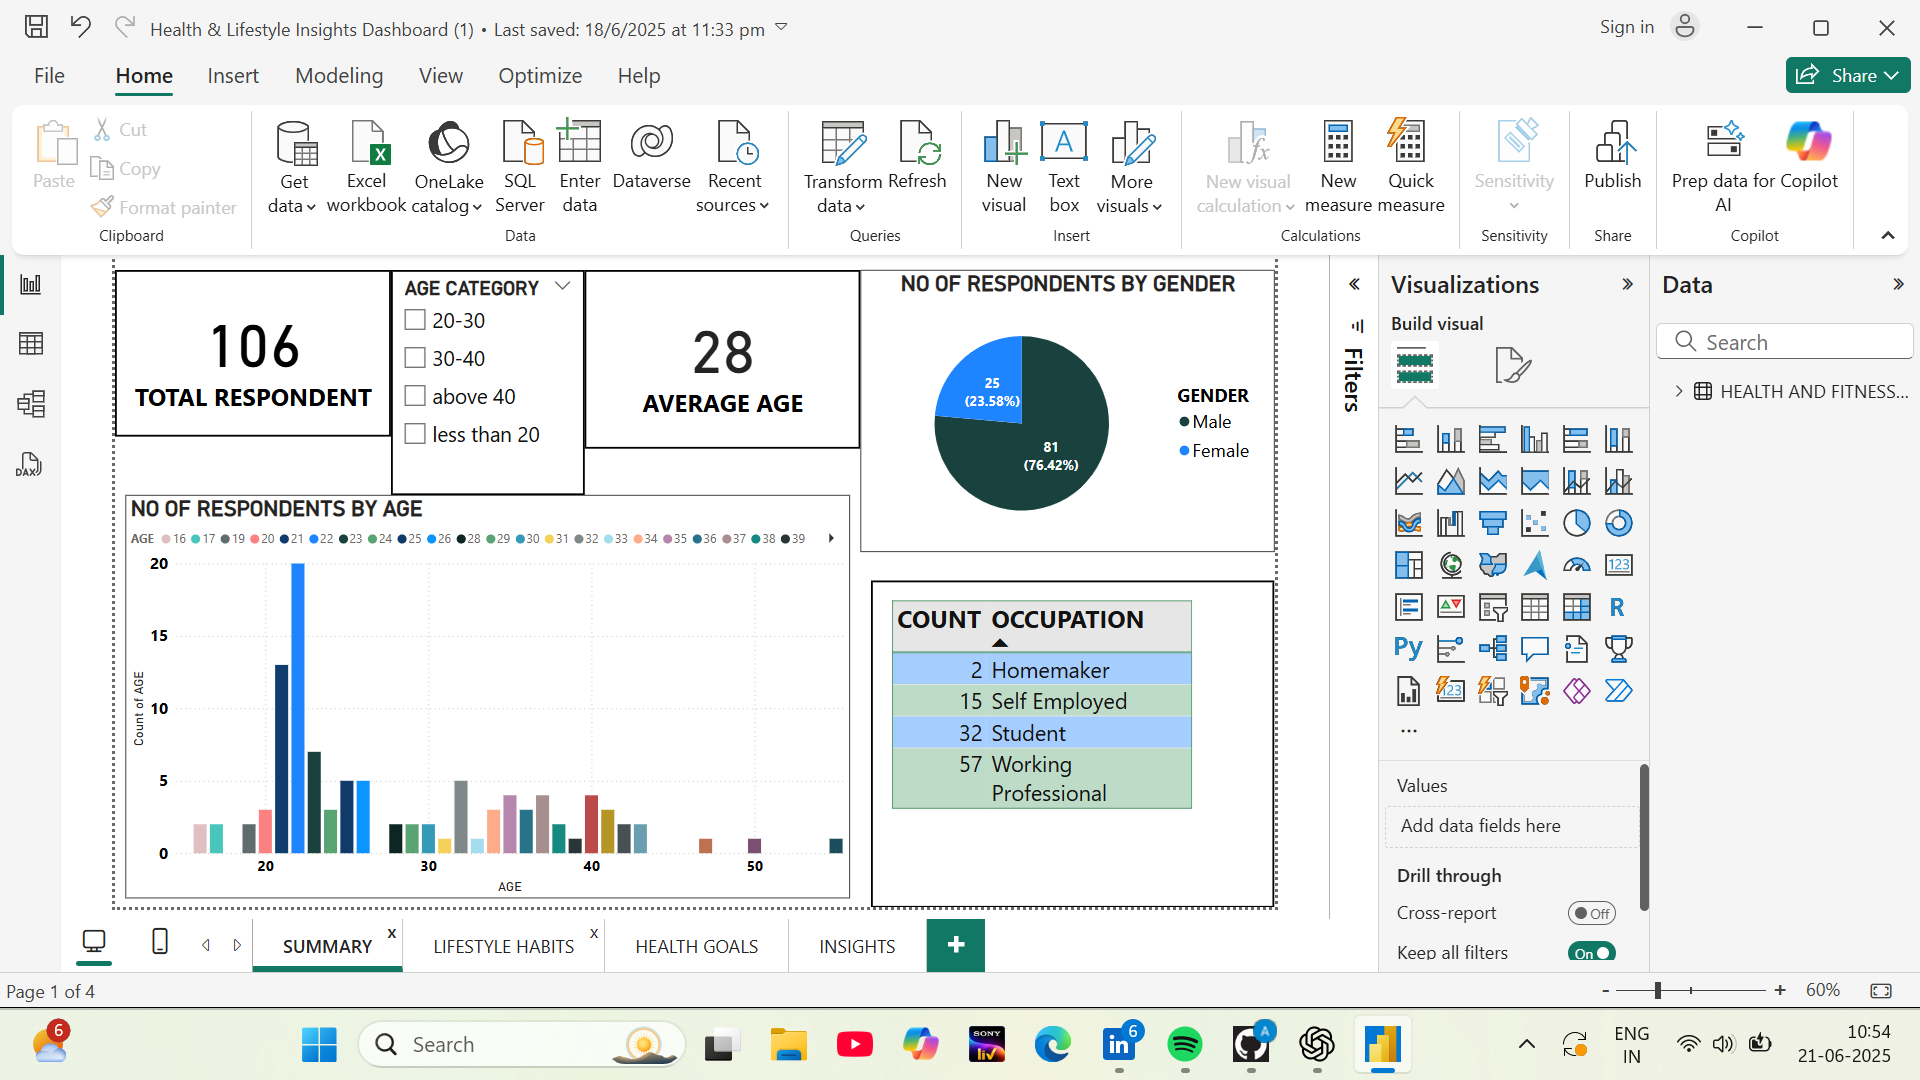

The page's visual inventory and layout, read from the dashboard file:
{"tool":"powerbi","page":{"name":"SUMMARY","canvas":[1280,720],"ordinal":0},"visuals":[{"type":"card","title":"TOTAL RESPONDENTS","fields":{"Values":["CountNonNull(HEALTH AND FITNESS SURVEY.AGE)"]},"box":[11.6,16.6,790.1,213.7],"z":0},{"type":"columnChart","title":"NO OF RESPONDENTS BY AGE","fields":{"Y":["CountNonNull(HEALTH AND FITNESS SURVEY.AGE)"],"Category":["HEALTH AND FITNESS SURVEY.AGE"],"Series":["HEALTH AND FITNESS SURVEY.AGE"]},"box":[11.6,230.3,790.1,480.4],"z":1000},{"type":"pieChart","title":"NO OF RESPONDENTS BY GENDER","fields":{"Y":["CountNonNull(HEALTH AND FITNESS SURVEY.GENDER)"],"Category":["HEALTH AND FITNESS SURVEY.GENDER"]},"box":[801.7,16.6,478.7,304.8],"z":2000},{"type":"tableEx","fields":{"Values":["HEALTH AND FITNESS SURVEY.AGE","HEALTH AND FITNESS SURVEY.EMPLOYMENT STATUS"]},"box":[802,321.4,478.7,399.2],"z":3000}]}

Visuals, with their boxes on the page's 1280x720 design canvas (x1, y1, x2, y2). These are canvas units, not pixel positions in the 1920x1080 screenshot, which may show the page scaled, cropped or inside an application window:
"TOTAL RESPONDENTS" card: [12,17,802,230]
"NO OF RESPONDENTS BY AGE" columnChart: [12,230,802,711]
"NO OF RESPONDENTS BY GENDER" pieChart: [802,17,1280,321]
tableEx - HEALTH AND FITNESS SURVEY.AGE x HEALTH AND FITNESS SURVEY.EMPLOYMENT STATUS: [802,321,1281,721]
